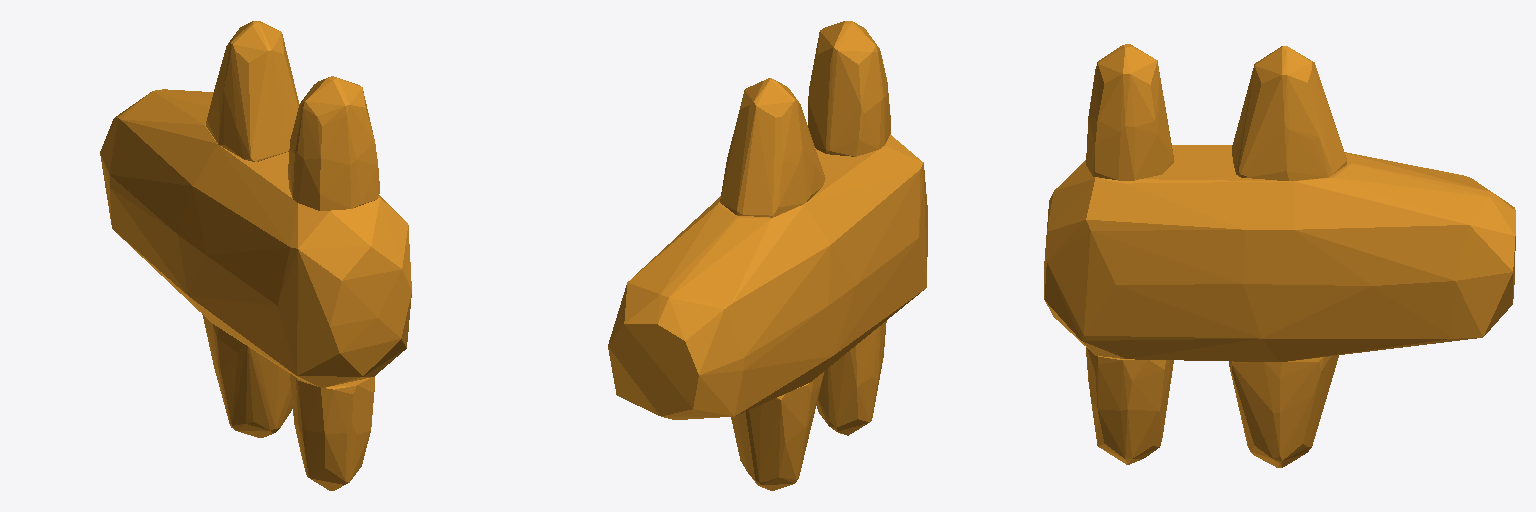
robot.urdf — blob585:
<robot name="blob585">
  <link name="random_obj_585">
    <contact>
      <lateral_friction value="1.0"/>
      <rolling_friction value="0.0"/>
      <inertia_scaling value="3.0"/>
      <contact_cfm value="0.0"/>
      <contact_erp value="1.0"/>
    </contact>
    <inertial>
      <origin rpy="0 0 0" xyz="0 0 0"/>
      <mass value="0.1"/>
      <inertia ixx="1" ixy="0" ixz="0" iyy="1" iyz="0" izz="0"/>
    </inertial>
    <visual>
      <origin rpy="0 0 0" xyz="0 0 0"/>
      <geometry>
        <mesh filename="585.obj" scale="0.015 0.015 0.015"/>
      </geometry>
      <material name="blockmat">
        <color rgba="0.87 0.60 0.20 1"/>
      </material>
    </visual>
    <collision>
      <origin rpy="0 0 0" xyz="0 0 0"/>
      <geometry>
        <mesh filename="585.obj" scale="0.015 0.015 0.015"/>
      </geometry>
    </collision>
  </link>
</robot>

--- Render facts (derived) ---
Views: 3 orthographic renders of the robot side by side, from view 1: azimuth 30°, elevation 25°; view 2: azimuth 150°, elevation 25°; view 3: azimuth 270°, elevation 25°.
Robot: blob585 — 1 links, 0 joints (none); root link random_obj_585; default pose: all joints at 0.
Links seen in each view (by area): view 1: random_obj_585; view 2: random_obj_585; view 3: random_obj_585.
Boxes of the visible links, box(x1,y1,x2,y2) form: random_obj_585: box(100, 21, 411, 490); random_obj_585: box(608, 21, 927, 490); random_obj_585: box(1044, 44, 1515, 467).
Bounding box of the posed robot: 0.0307 × 0.0921 × 0.0907 m (x, y, z).
1 mesh visuals loaded from 1 distinct referenced files (1 OBJ).